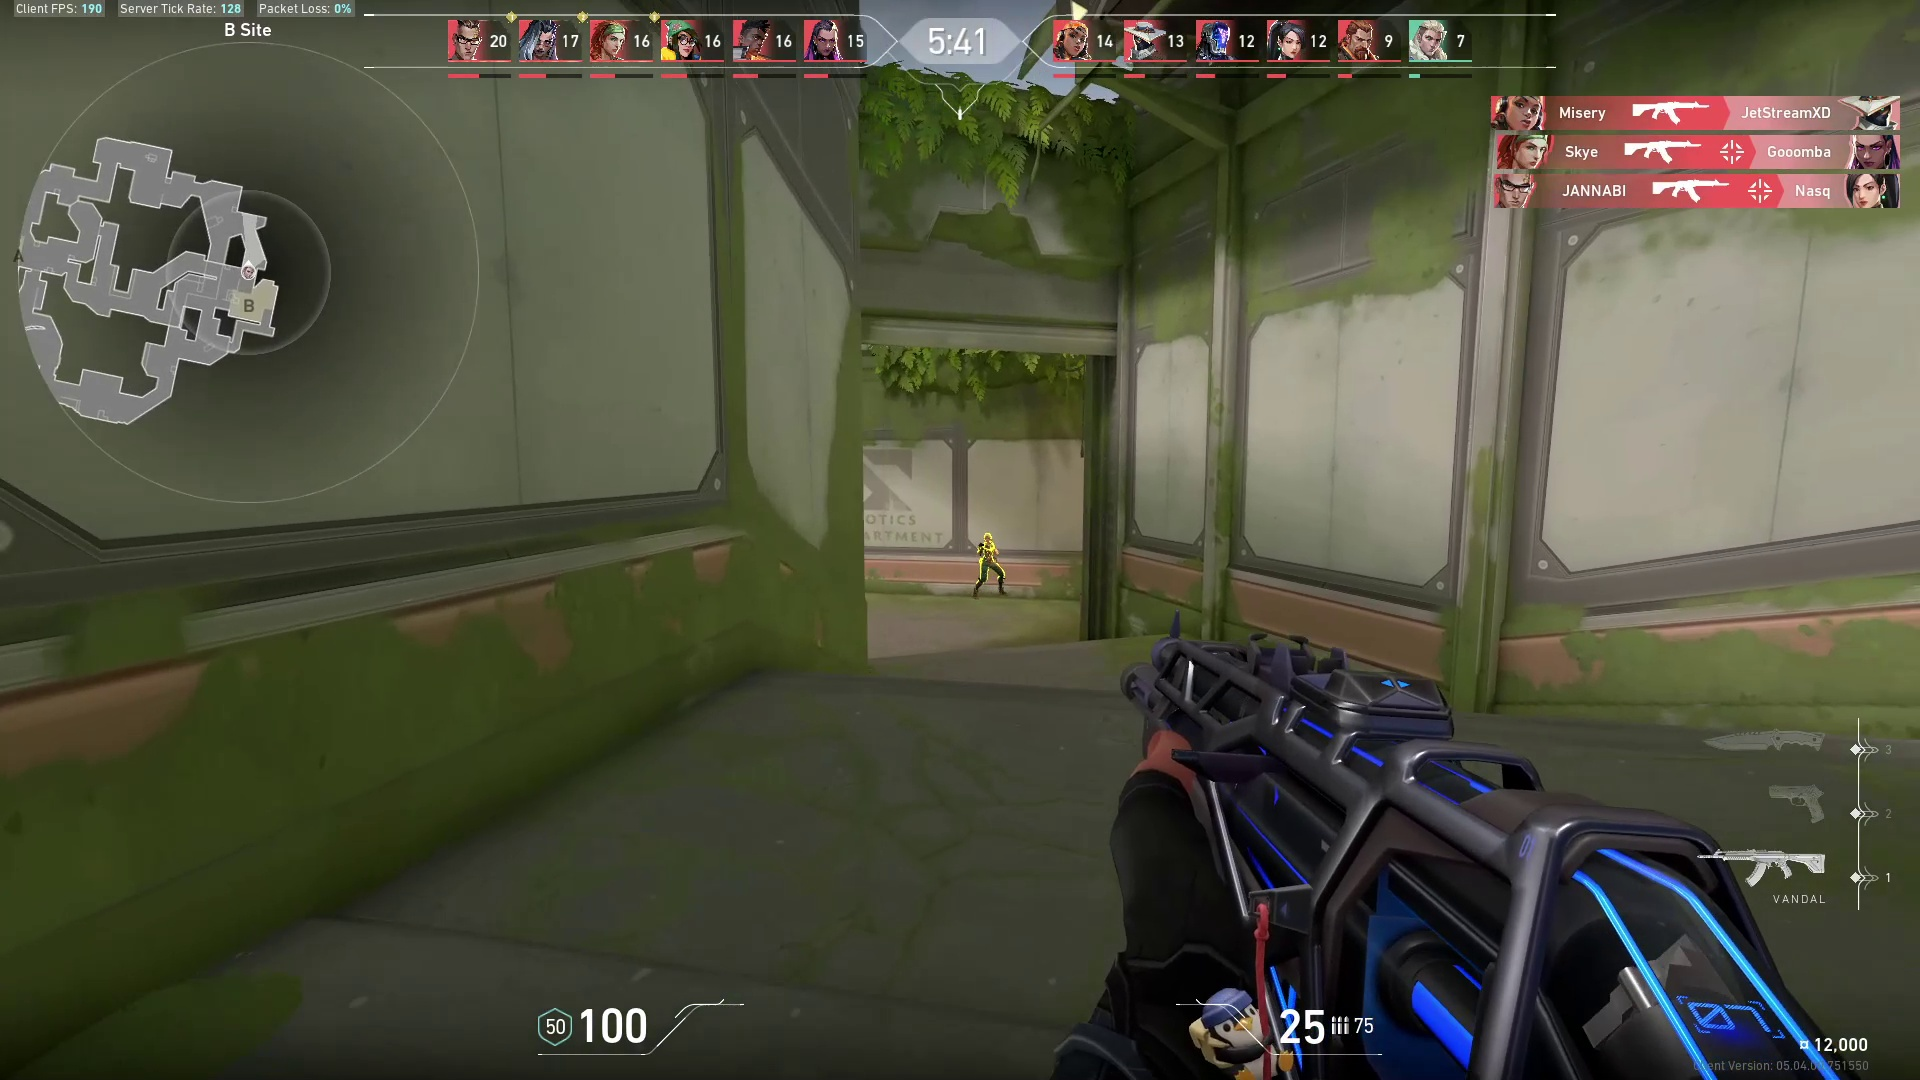enemy_body: (975, 542, 1007, 600)
enemy_head: (981, 531, 993, 543)
